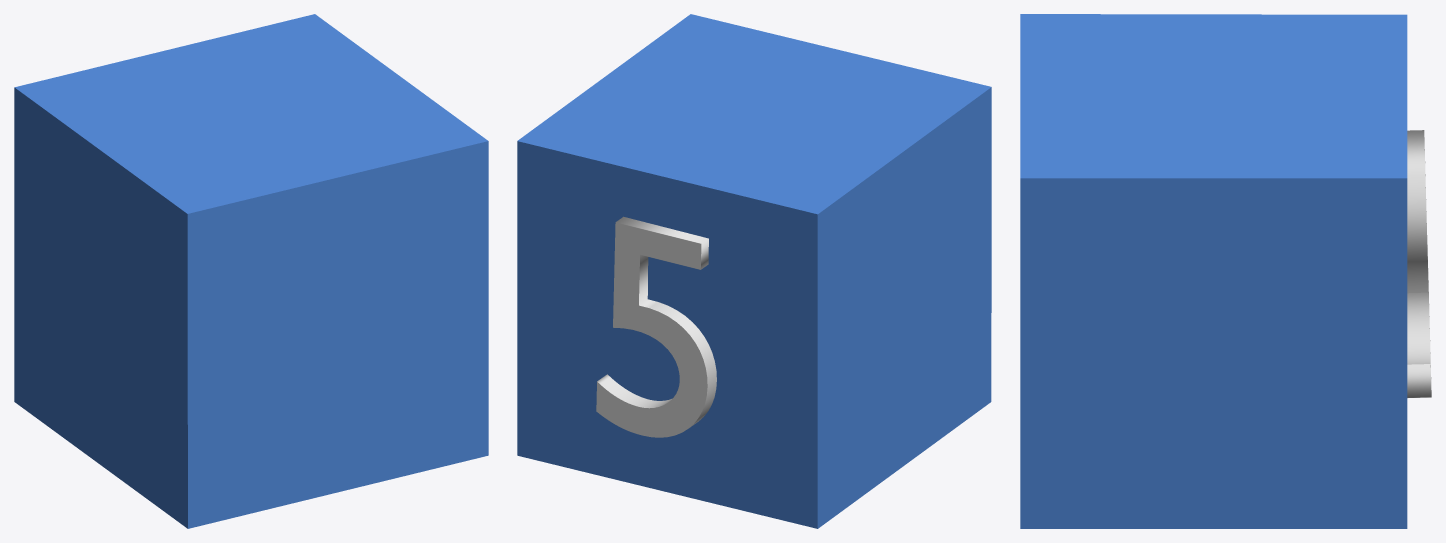
File: bluecube1.glb
3 views of the same model, side by side, from view 1: azimuth 30°, elevation 25°; view 2: azimuth 150°, elevation 25°; view 3: azimuth 270°, elevation 25° (orthographic). The views are drawn at different scales.
Visible parts, largest first — view 1: Cube; view 2: Cube, Text; view 3: Cube, Text.
Boxes of the visible parts, x1,y1,x2,y2 form: Cube: [14, 14, 488, 528]; Cube: [517, 14, 991, 528]; Text: [596, 216, 716, 437]; Cube: [1020, 14, 1407, 528]; Text: [1407, 130, 1431, 398].
Size of the model in its own units: 2 by 2 by 2.13.
